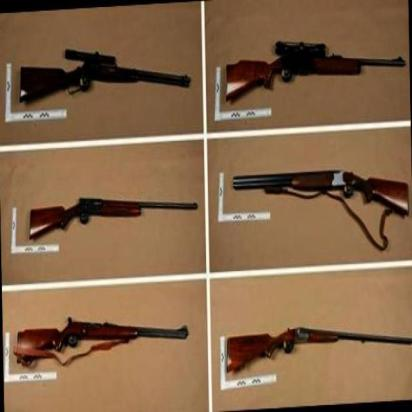Gun: (226, 317, 400, 384), (225, 34, 399, 101), (17, 41, 190, 108), (234, 159, 408, 225), (16, 302, 189, 368), (26, 168, 199, 234)
